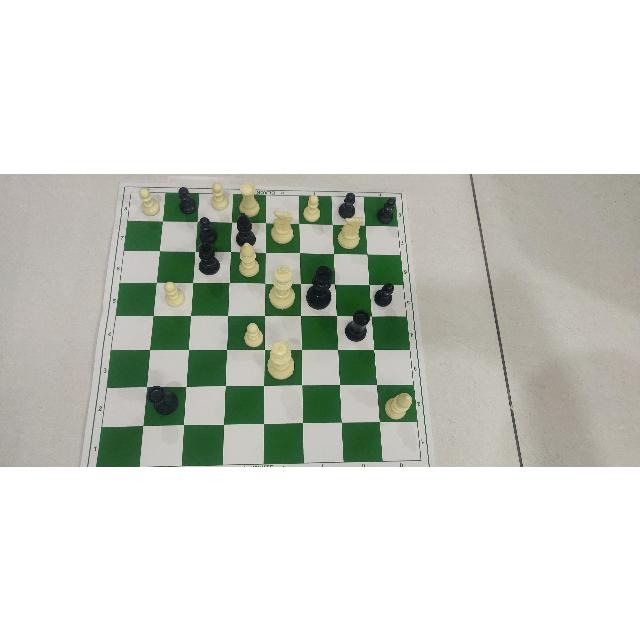black-bishop: (195, 240, 223, 274), (233, 212, 255, 242)
black-king: (305, 263, 336, 310)
black-pawn: (173, 185, 195, 214), (375, 197, 399, 222), (338, 188, 360, 214), (376, 282, 397, 308), (195, 218, 218, 238)
black-rook: (340, 309, 374, 344), (146, 385, 175, 419)
white-bishop: (383, 391, 415, 422), (238, 241, 261, 275)
white-king: (266, 264, 298, 311)
white-knight: (335, 216, 369, 247), (268, 210, 295, 246)
white-pawn: (161, 281, 189, 309), (138, 187, 162, 215), (302, 193, 323, 221), (211, 180, 229, 209), (245, 320, 263, 348)
white-queen: (266, 340, 297, 384)
white-rook: (234, 179, 259, 209)
